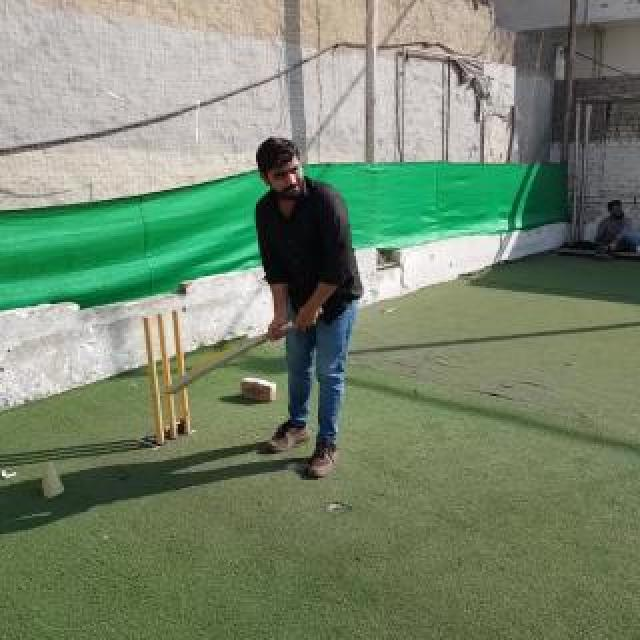bat: (165, 307, 323, 395)
